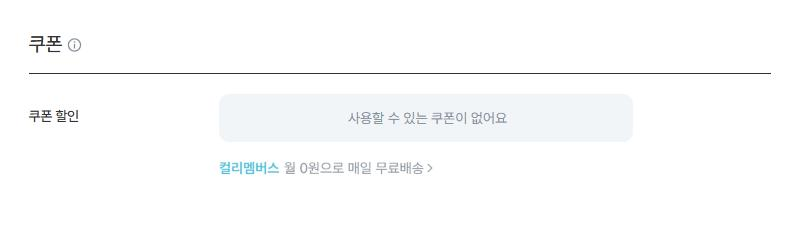button: (217, 156, 435, 175)
